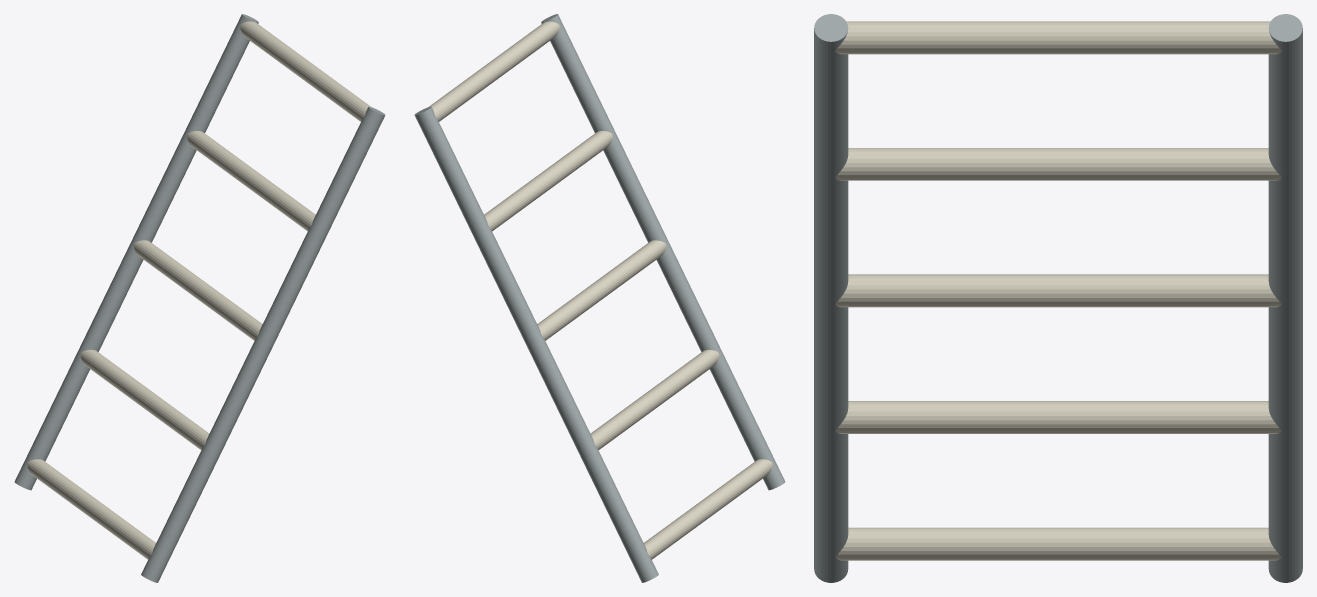
The model's file is apollol3.obj.
The picture shows the model from 3 angles, left to right: view 1: azimuth 30°, elevation 25°; view 2: azimuth 150°, elevation 25°; view 3: azimuth 270°, elevation 25°; orthographic projection. The views are drawn at different scales.
Visible parts, largest first — view 1: ColobotMesh_1_ColobotMesh_, ColobotMesh_1.001_ColobotMesh_.003; view 2: ColobotMesh_1_ColobotMesh_, ColobotMesh_1.001_ColobotMesh_.003; view 3: ColobotMesh_1.001_ColobotMesh_.003, ColobotMesh_1_ColobotMesh_.
Boxes of the visible parts, bbox=[...] form: ColobotMesh_1_ColobotMesh_: bbox=[14, 14, 385, 582]; ColobotMesh_1.001_ColobotMesh_.003: bbox=[27, 21, 370, 559]; ColobotMesh_1_ColobotMesh_: bbox=[414, 14, 785, 582]; ColobotMesh_1.001_ColobotMesh_.003: bbox=[429, 21, 772, 559]; ColobotMesh_1.001_ColobotMesh_.003: bbox=[835, 21, 1281, 560]; ColobotMesh_1_ColobotMesh_: bbox=[814, 14, 1302, 582].
Bounding box in the file's own units: 4.41 × 7.34 × 4.3.
